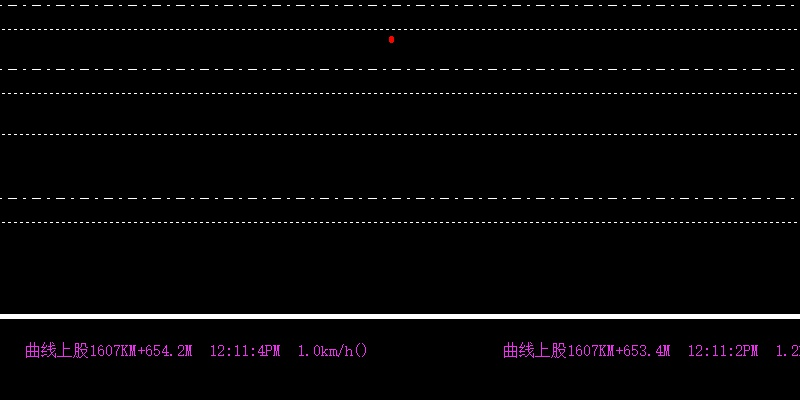face_down: (387, 25, 395, 45)
